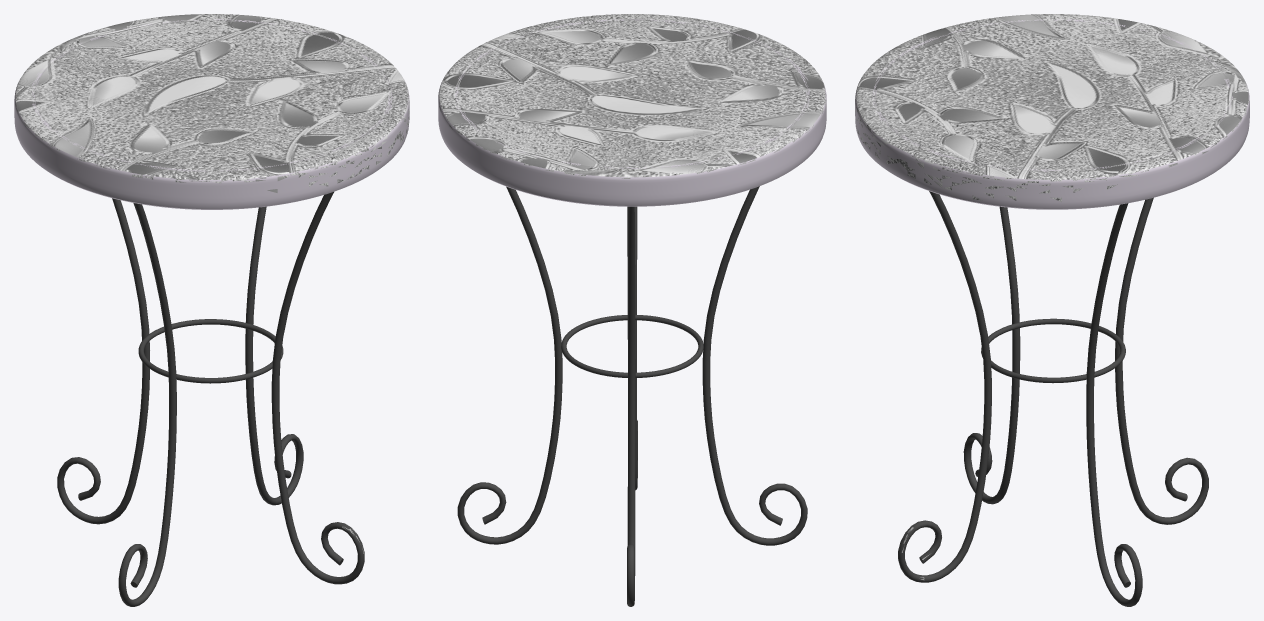
The model's file is table6.glb.
3 views of the same model, side by side, from view 1: azimuth 30°, elevation 25°; view 2: azimuth 150°, elevation 25°; view 3: azimuth 270°, elevation 25° (orthographic).
Parts seen in each view (by area): view 1: RoundTable_revolvedSurface2detachedSurface2_8; view 2: RoundTable_revolvedSurface2detachedSurface2_8; view 3: RoundTable_revolvedSurface2detachedSurface2_8.
Boxes of the visible parts, box(x1,y1,x2,y2) form: RoundTable_revolvedSurface2detachedSurface2_8: box(14, 14, 409, 606); RoundTable_revolvedSurface2detachedSurface2_8: box(438, 14, 826, 606); RoundTable_revolvedSurface2detachedSurface2_8: box(855, 14, 1249, 606).
Bounding box in the file's own units: 1.35 × 1.73 × 1.35.
3 materials, 1 textured.
